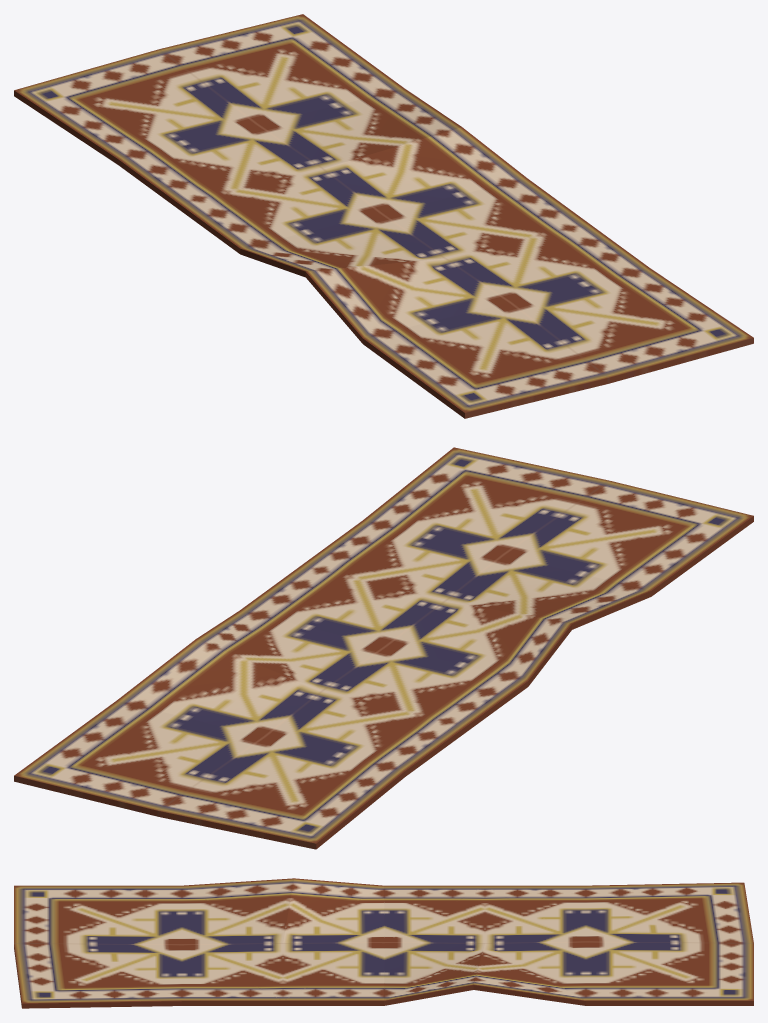
The model's file is SM_Prop_Rug_10.fbx.
3 renders of one model, top to bottom at view 1: azimuth 30°, elevation 25°; view 2: azimuth 150°, elevation 25°; view 3: azimuth 270°, elevation 25°, orthographic. The views are drawn at different scales.
Visible parts, largest first — view 1: SM_Prop_Rug_10; view 2: SM_Prop_Rug_10; view 3: SM_Prop_Rug_10.
Part boxes in pixels (x1=…): SM_Prop_Rug_10: x1=14, y1=14, x2=753, y2=418; SM_Prop_Rug_10: x1=14, y1=447, x2=753, y2=849; SM_Prop_Rug_10: x1=14, y1=878, x2=753, y2=1008.
Bounding box in the file's own units: 218 × 13.87 × 564.
